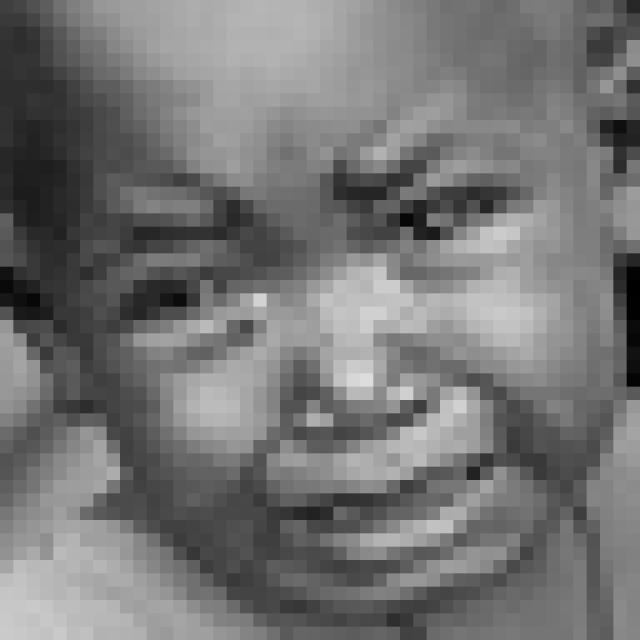sad: (75, 114, 552, 577)
